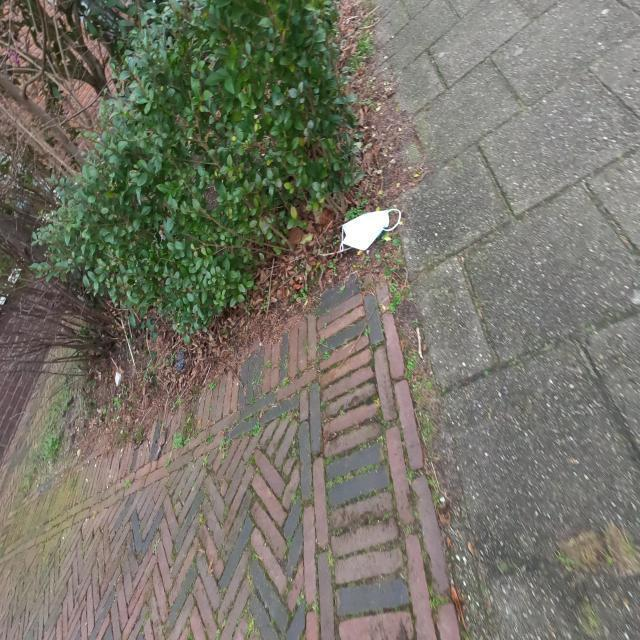Mask: (338, 208, 402, 252)
